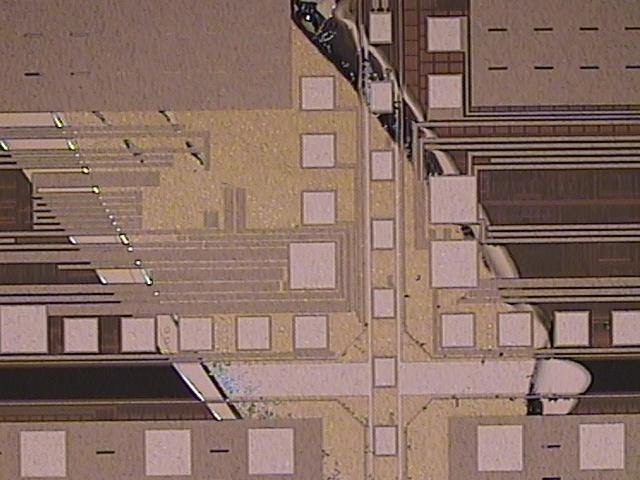BLOCK ETCH: (1, 1, 596, 480)
